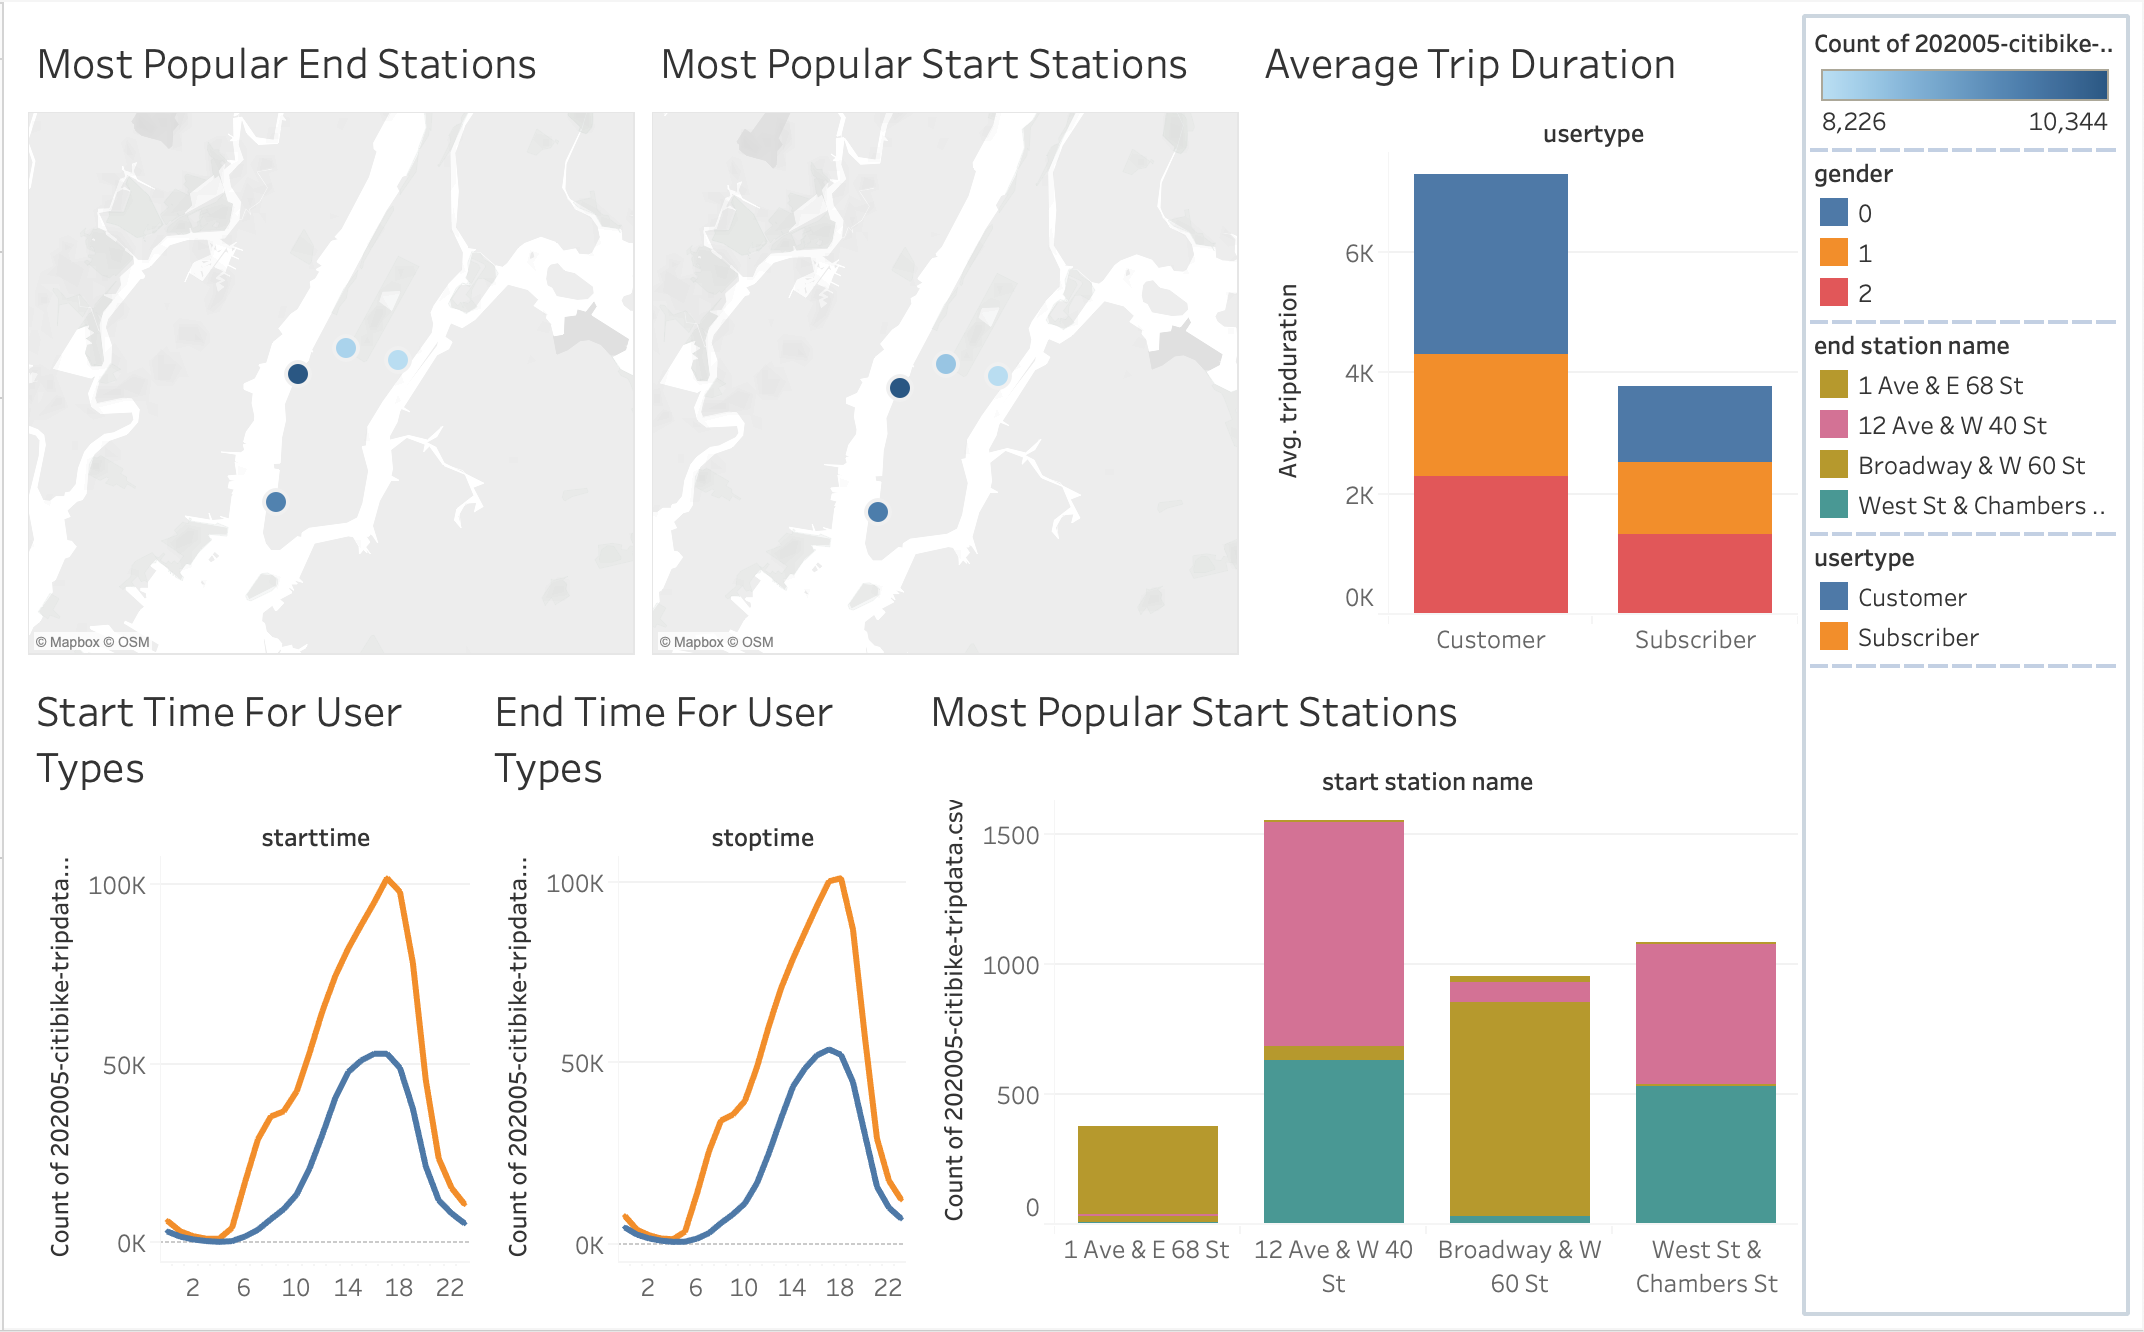

This screenshot's page, from the dashboard's own definition file:
{"tool":"tableau","page":{"name":"Dashboard 1","canvas":[1000,1000],"units":"permille","ordinal":0},"visuals":[{"type":"worksheet","box":[0,0,1000,1000]},{"type":"worksheet","param":"horz","box":[7.5,12.1,985,975.9]},{"type":"worksheet","box":[7.5,12.1,835.4,975.9]},{"type":"worksheet","title":"EndStations","mark":"Automatic","rows":["end station latitude"],"cols":["end station longitude"],"box":[7.5,12.1,291.9,487.9]},{"type":"worksheet","title":"StartStations","mark":"Automatic","rows":["start station latitude"],"cols":["start station longitude"],"box":[299.4,12.1,282.5,487.9]},{"type":"worksheet","title":"TripDuration","mark":"Automatic","rows":["tripduration"],"cols":["usertype"],"box":[581.9,12.1,261,487.9]},{"type":"worksheet","param":"vert","box":[842.9,12.1,149.7,975.9]},{"type":"worksheet","title":"EndStations","mark":"Automatic","rows":["end station latitude"],"cols":["end station longitude"],"param":"[federated.1cqaodh056fw3h1a6hucb0i3e19s].[__tableau_internal_object_id__].[cnt:2","box":[842.9,12.1,149.7,98]},{"type":"worksheet","title":"TripDuration","mark":"Automatic","rows":["tripduration"],"cols":["usertype"],"param":"[federated.1cqaodh056fw3h1a6hucb0i3e19s].[none:gender:ok]","box":[842.9,110.1,149.7,129.7]},{"type":"worksheet","title":"Most PopStartStations","mark":"Automatic","rows":["202005-citibike-tripdata.csv_A6DC705A111B4B3E90E7838E62B6073"],"cols":["start station name"],"param":"[federated.1cqaodh056fw3h1a6hucb0i3e19s].[none:end station name:nk]","box":[842.9,239.8,149.7,159.9]},{"type":"worksheet","title":"StartUserTypes","mark":"Automatic","rows":["202005-citibike-tripdata.csv_A6DC705A111B4B3E90E7838E62B6073"],"cols":["starttime"],"param":"[federated.1cqaodh056fw3h1a6hucb0i3e19s].[none:usertype:nk]","box":[842.9,399.7,149.7,99.5]},{"type":"worksheet","title":"StartUserTypes","mark":"Automatic","rows":["202005-citibike-tripdata.csv_A6DC705A111B4B3E90E7838E62B6073"],"cols":["starttime"],"box":[7.5,500,214.2,487.9]},{"type":"worksheet","title":"EndUserTypes","mark":"Automatic","rows":["202005-citibike-tripdata.csv_A6DC705A111B4B3E90E7838E62B6073"],"cols":["stoptime"],"box":[221.7,500,203.5,487.9]},{"type":"worksheet","title":"Most PopStartStations","mark":"Automatic","rows":["202005-citibike-tripdata.csv_A6DC705A111B4B3E90E7838E62B6073"],"cols":["start station name"],"box":[425.2,500,417.7,487.9]}]}

Visuals, with their boxes on the dashboard's canvas, which has no fixed pixel size, in thousandths of its width and height (x1, y1, x2, y2). These are canvas units, not pixel positions in the 2144x1332 screenshot, which may show the page scaled, cropped or inside an application window:
worksheet: left=0, top=0, right=1000, bottom=1000
worksheet: left=8, top=12, right=992, bottom=988
worksheet: left=8, top=12, right=843, bottom=988
"EndStations" worksheet: left=8, top=12, right=299, bottom=500
"StartStations" worksheet: left=299, top=12, right=582, bottom=500
"TripDuration" worksheet: left=582, top=12, right=843, bottom=500
worksheet: left=843, top=12, right=993, bottom=988
"EndStations" worksheet: left=843, top=12, right=993, bottom=110
"TripDuration" worksheet: left=843, top=110, right=993, bottom=240
"Most PopStartStations" worksheet: left=843, top=240, right=993, bottom=400
"StartUserTypes" worksheet: left=843, top=400, right=993, bottom=499
"StartUserTypes" worksheet: left=8, top=500, right=222, bottom=988
"EndUserTypes" worksheet: left=222, top=500, right=425, bottom=988
"Most PopStartStations" worksheet: left=425, top=500, right=843, bottom=988
